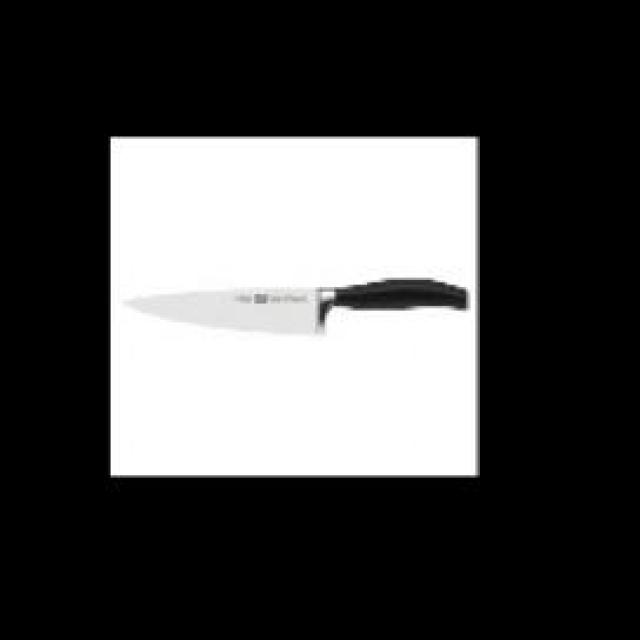knife: (121, 266, 478, 336)
